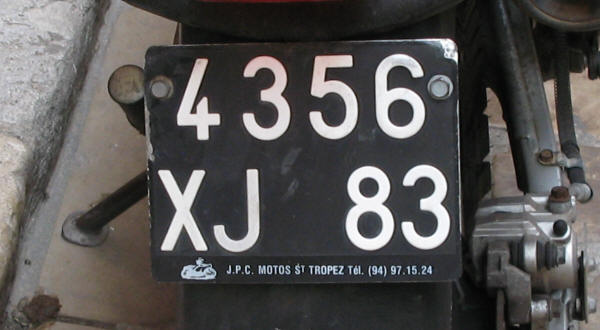license_plate: (144, 37, 461, 283)
